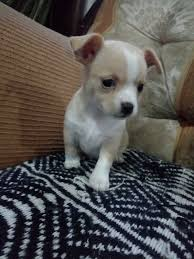chihuahua: (52, 22, 163, 202)
